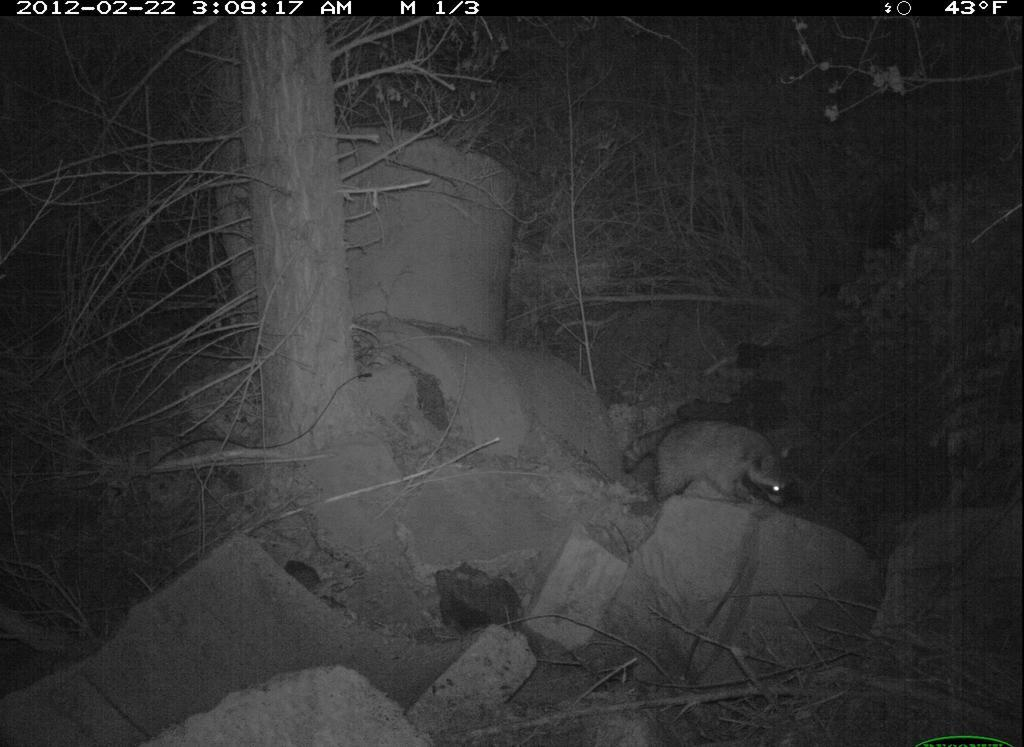raccoon: (617, 409, 802, 506)
